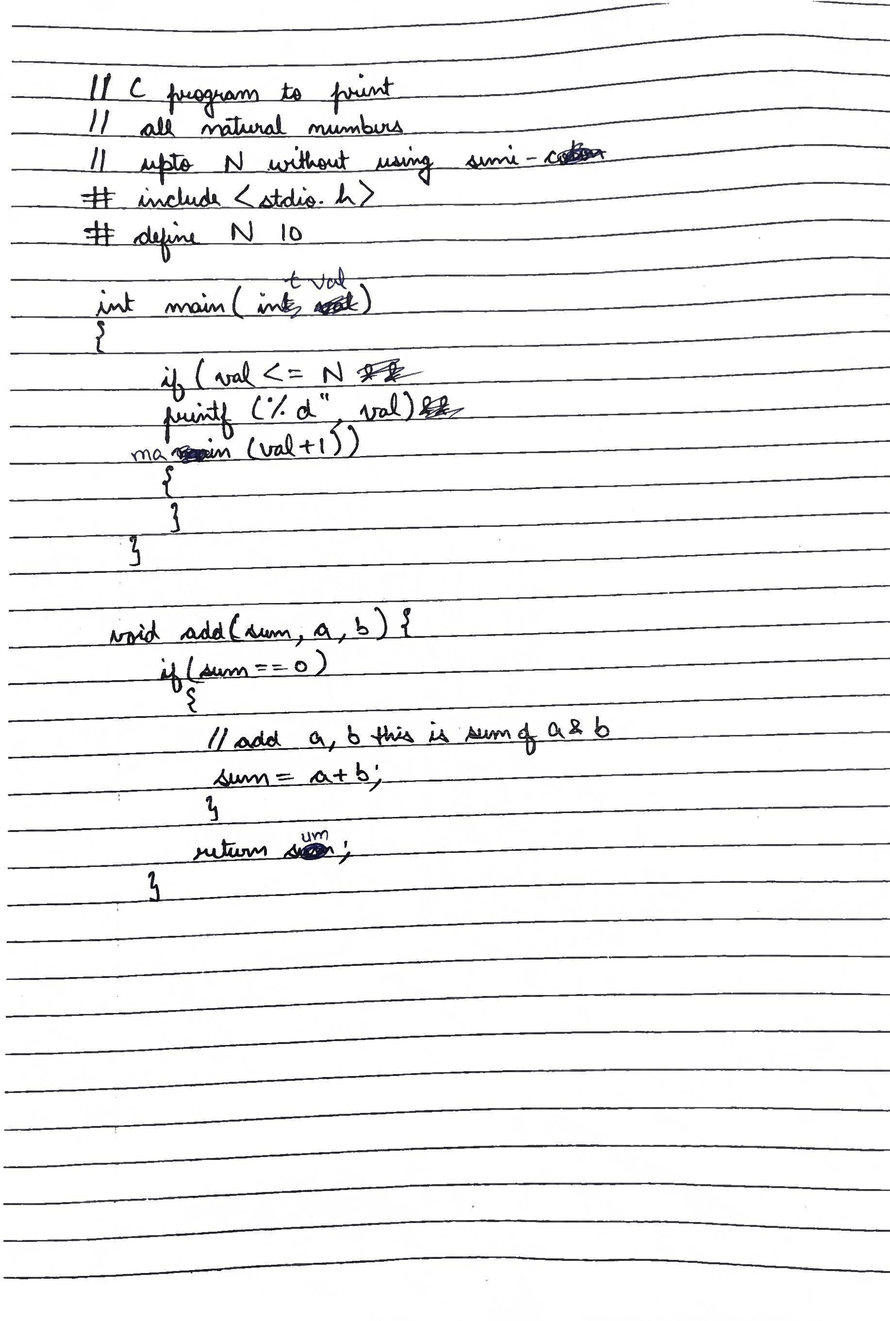cuttings: (545, 141, 609, 166), (359, 358, 412, 384), (313, 293, 356, 315), (423, 393, 455, 416), (174, 443, 207, 463), (302, 842, 332, 860)
